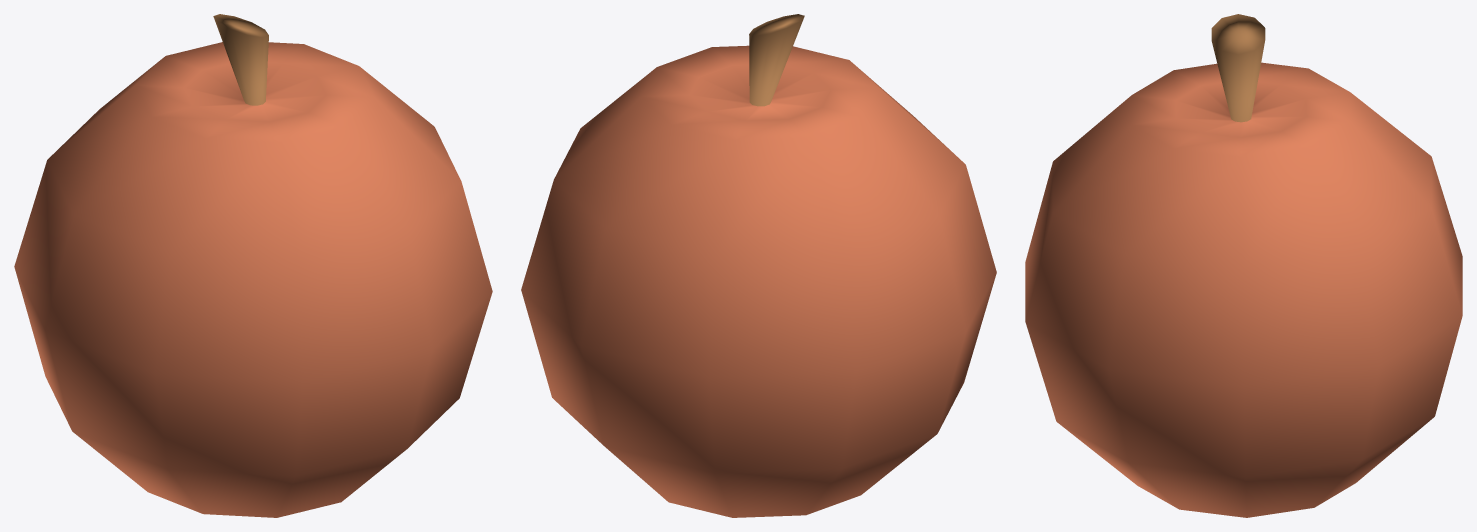
File: Round_Fruit.fbx
The picture shows the model from 3 angles, left to right: view 1: azimuth 30°, elevation 25°; view 2: azimuth 150°, elevation 25°; view 3: azimuth 270°, elevation 25°; orthographic projection. The views are drawn at different scales.
Visible parts, largest first — view 1: Round_Fruit; view 2: Round_Fruit; view 3: Round_Fruit.
Boxes of the visible parts, bbox=[...] form: Round_Fruit: bbox=[14, 14, 492, 517]; Round_Fruit: bbox=[521, 14, 996, 517]; Round_Fruit: bbox=[1025, 14, 1462, 517].
Bounding box in the file's own units: 7.31 × 7.79 × 6.95.
